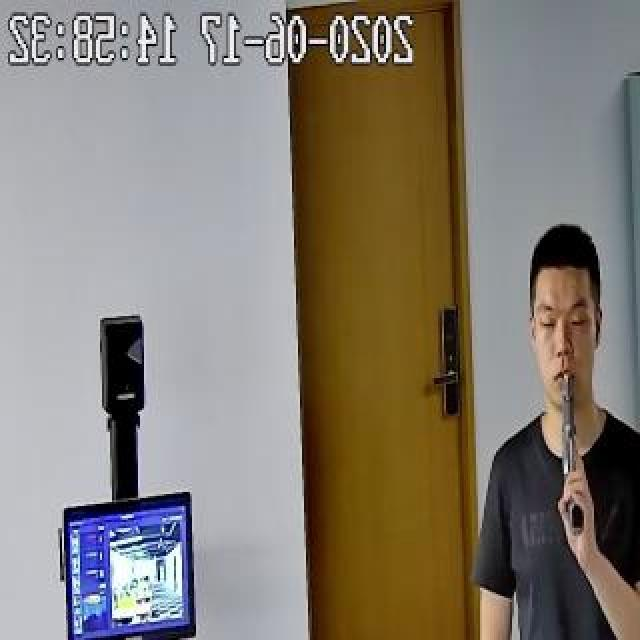Guns: (550, 363, 596, 538)
